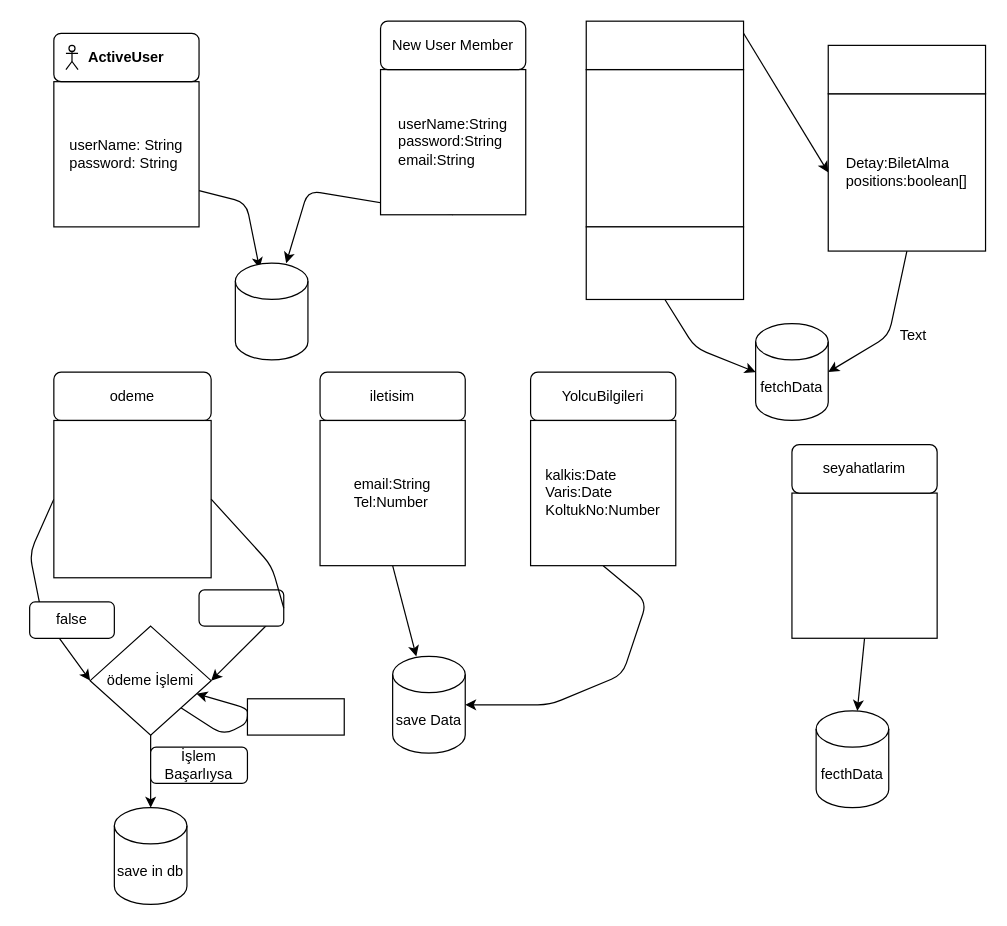
Image size: 1007x926. Some labels were removed from this diagram. Here are the shapes that lost their labels. From the top down, the box of each, then its label:
(585, 20, 744, 70): BiletAlma
(827, 44, 986, 94): Koltuklar
(585, 68, 744, 227): otobusFirmasi:String kalkisSaati:String Ucret:Float
(585, 226, 744, 299): note: kalkisSaati ve otobusFirmasi composit unique key olmalı
(234, 262, 308, 360): db UserTable
(53, 419, 211, 578): KartNumarasi:Number Cvv:Number SonKullanma: Date
(791, 492, 937, 638): OtubusFirmasi:String YolculukTarihi:Date KoltukNo:Number BiletDurumu:Boolean
(198, 589, 284, 626): true
(246, 698, 344, 735): İşlem Başarsızsa
